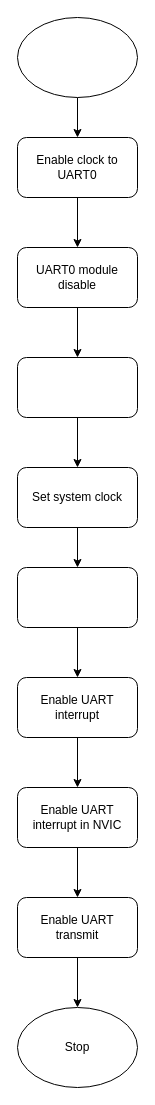
The diagram is 155 pixels wide and 1105 high, and some of its shapes have lost their labels. Here are the shapes that lost their labels. From the top down, the centre of each, then its label:
(77,57): Start
(77,387): Set for 9600 baud rate
(77,597): Enable UART0 module
